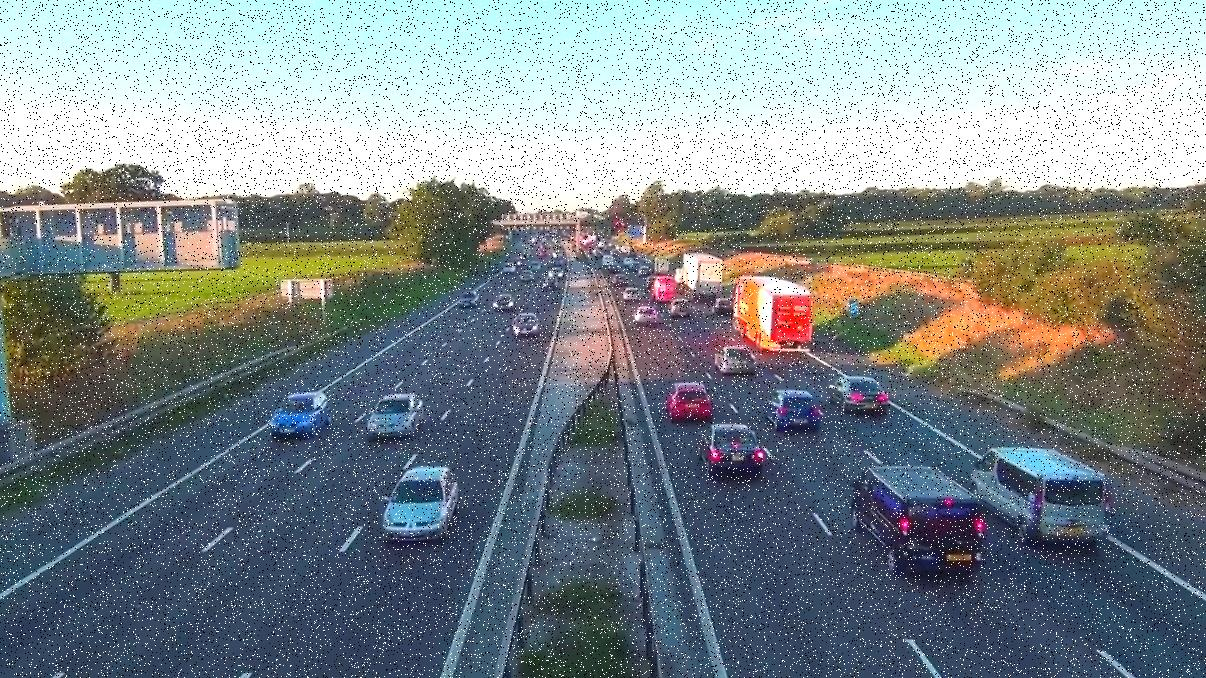car: (847, 467, 986, 573), (968, 447, 1113, 542), (371, 464, 462, 542), (270, 389, 336, 439), (367, 394, 426, 440), (761, 393, 822, 433), (840, 376, 891, 414), (664, 386, 712, 425), (715, 346, 759, 374), (709, 424, 761, 447), (512, 314, 541, 338), (633, 305, 663, 325), (667, 299, 694, 318), (490, 295, 513, 311), (620, 289, 641, 302), (458, 294, 478, 307)
truck: (734, 275, 813, 350)
